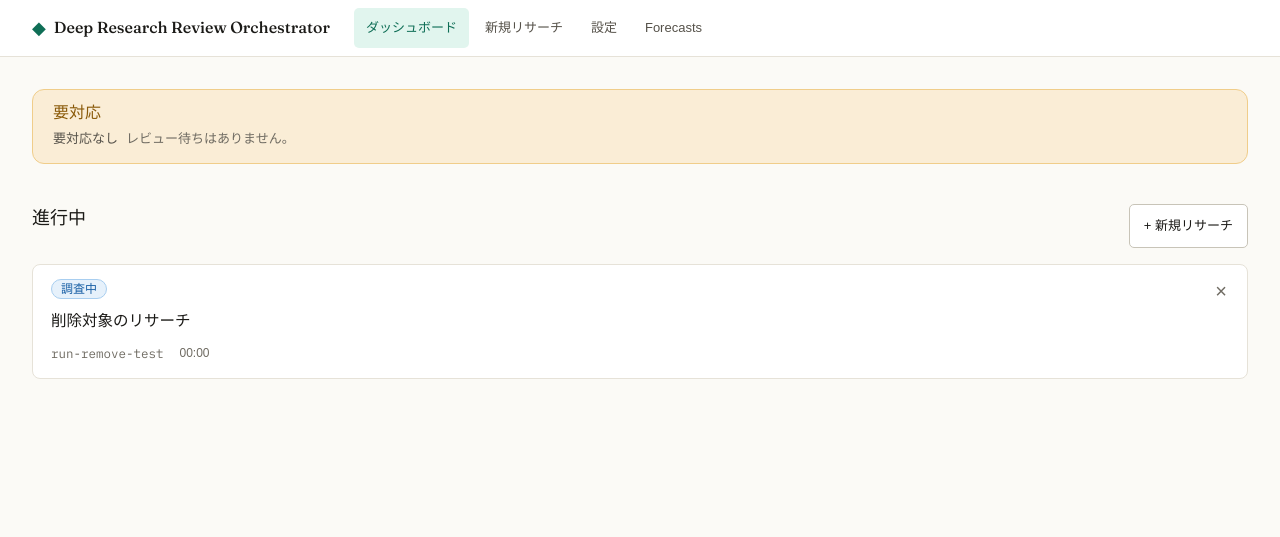
it: Dashboard (SCR-2) › removes a tracked run from the dashboard
The width and height of the screenshot is (1280, 537).
Expected: the text "削除対象のリサーチ" is shown, 51,312 -> 190,329
Step 1. Click the button named "停止して削除: 削除対象のリサーチ" → [1221, 291], box 1207,277 -> 1235,305
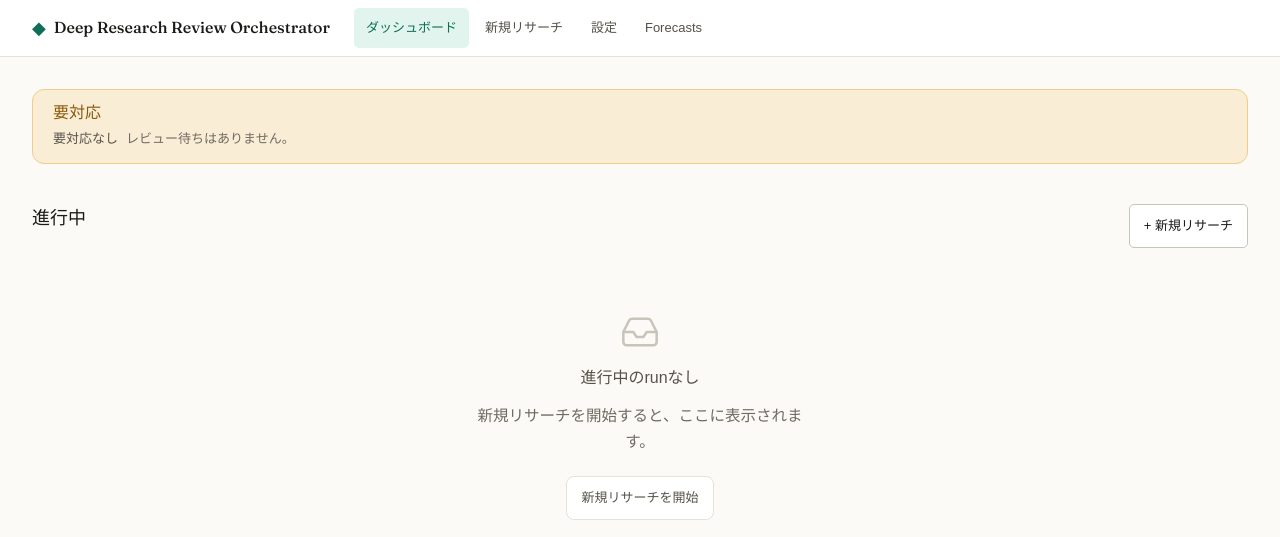
Expected: the link "削除対象のリサーチ" is gone
